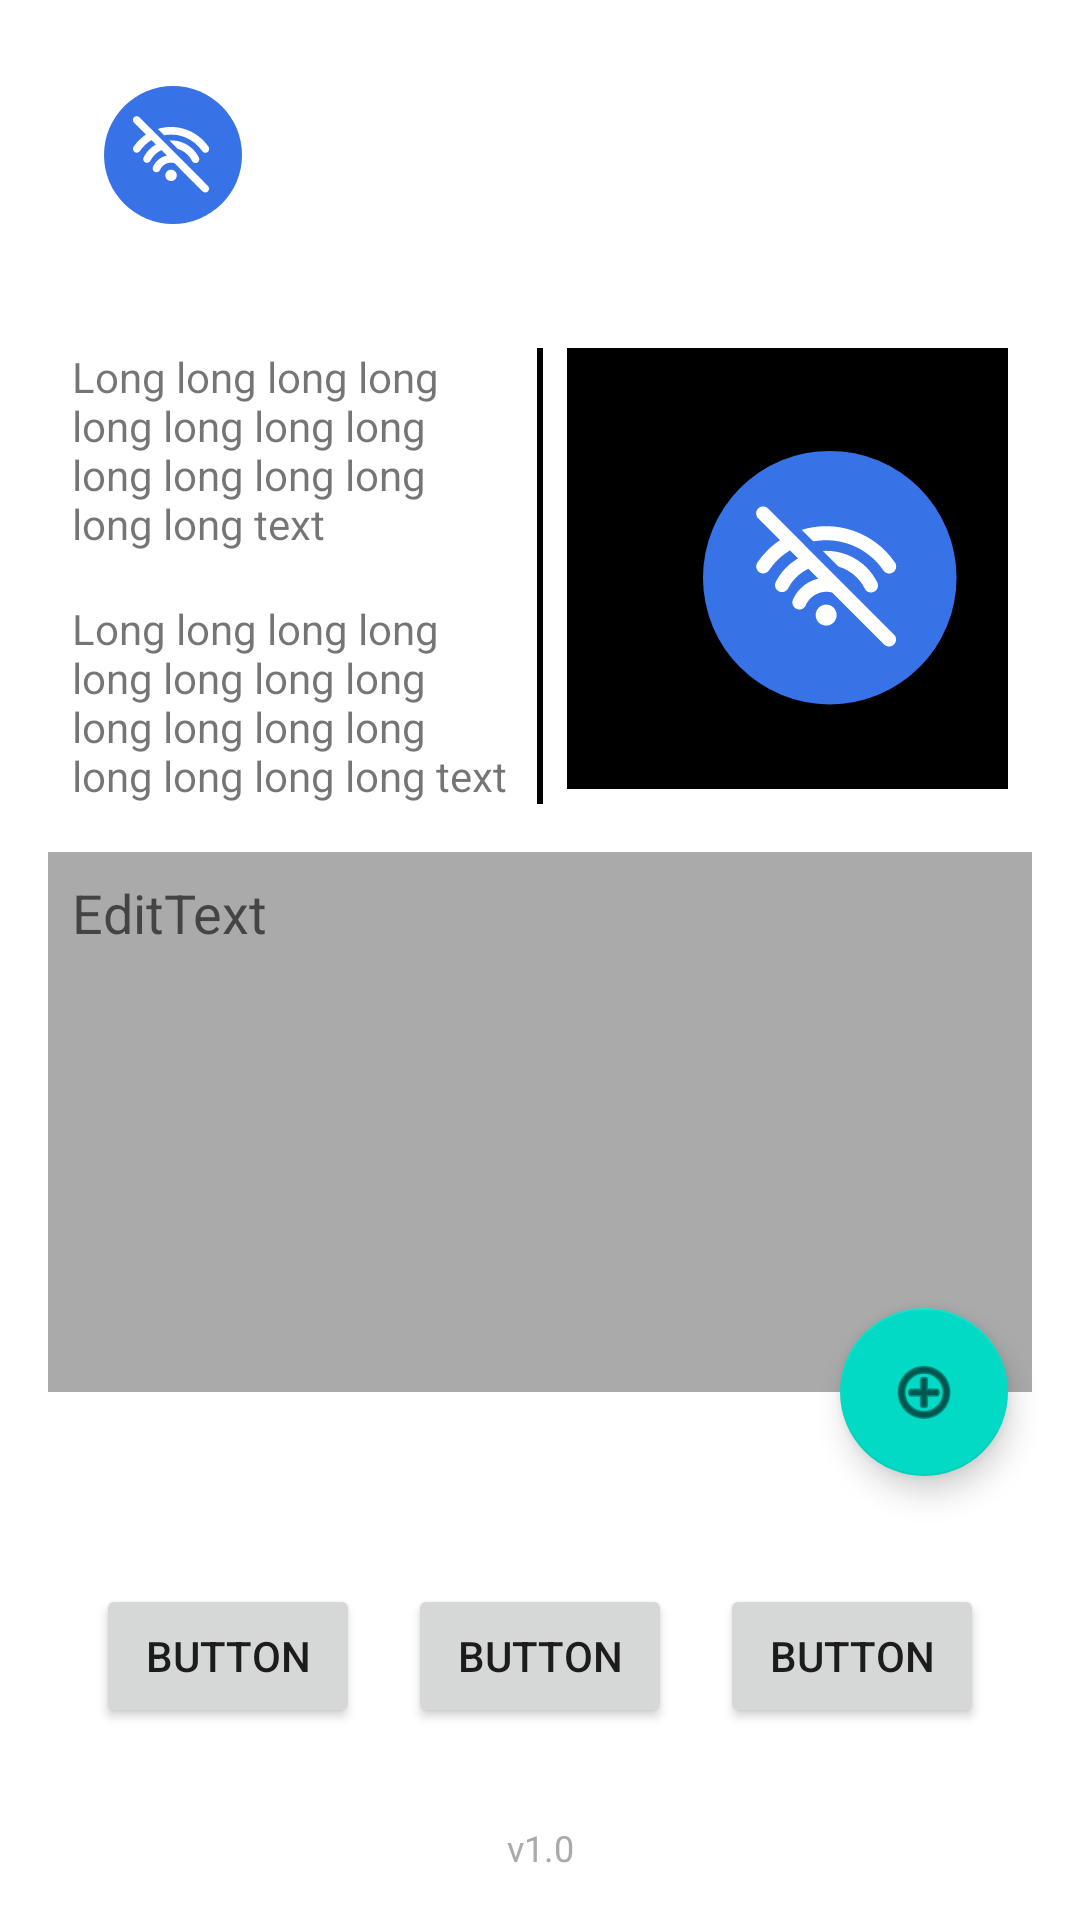

Point at icon controls on the screen. Image size 1080 x 1920, points as point (x, y).
add: point (924, 1392)
